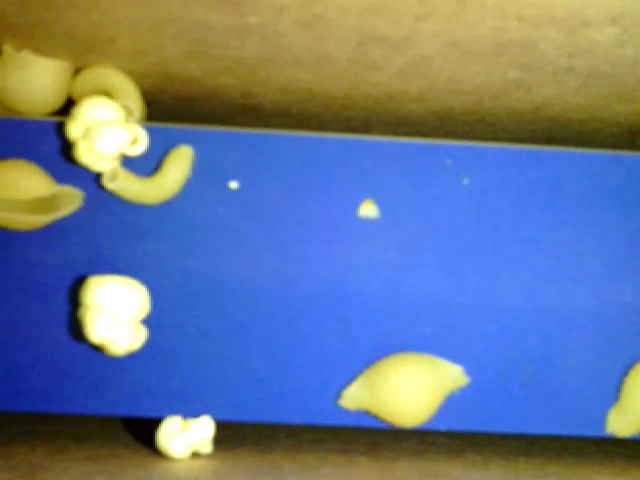elbow: (100, 144, 192, 205), (69, 65, 145, 121)
shell: (336, 351, 470, 428), (1, 159, 86, 229), (1, 43, 73, 117), (605, 361, 639, 438)
